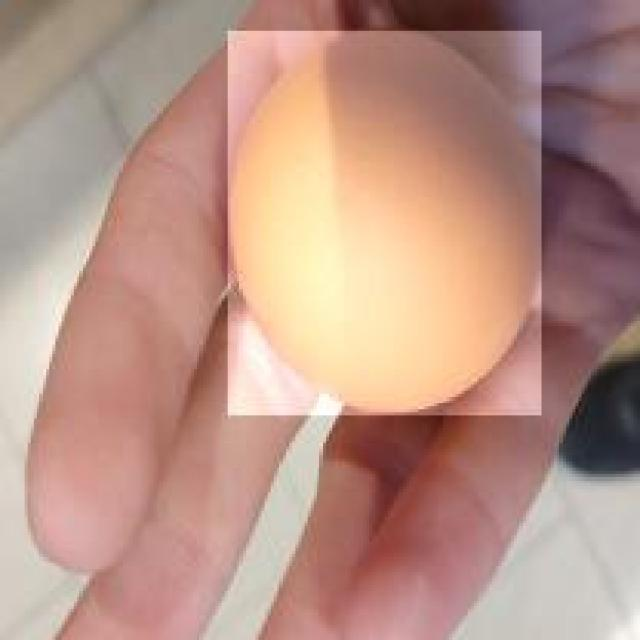egg: (228, 28, 544, 415)
